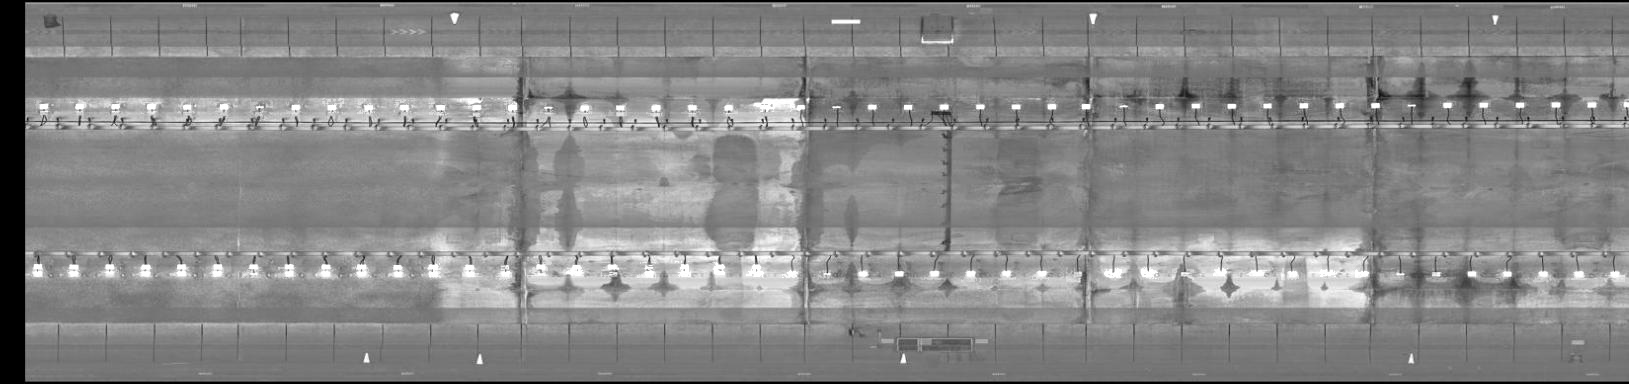light: (316, 260, 338, 281), (278, 262, 301, 280), (525, 262, 553, 276), (238, 260, 261, 278), (353, 260, 372, 279), (1066, 267, 1088, 282), (322, 98, 344, 113), (459, 263, 482, 277), (608, 100, 627, 116), (1604, 267, 1625, 282), (206, 262, 226, 277), (1425, 268, 1447, 282), (753, 100, 775, 114), (170, 262, 192, 276), (637, 262, 656, 278), (388, 264, 406, 280), (1222, 99, 1241, 114), (566, 263, 588, 276), (1533, 266, 1551, 282), (423, 263, 440, 279), (600, 262, 619, 277), (495, 265, 513, 280), (961, 268, 981, 282), (504, 100, 524, 114), (250, 100, 273, 112), (1496, 267, 1517, 280), (1138, 267, 1158, 280), (63, 264, 84, 277), (468, 101, 484, 117), (1281, 266, 1300, 280), (1172, 268, 1194, 280), (745, 264, 764, 278), (136, 263, 155, 277), (1329, 99, 1348, 112), (429, 102, 449, 115), (97, 262, 119, 273), (1460, 270, 1480, 282), (1101, 268, 1122, 280), (675, 260, 691, 277), (680, 102, 701, 114), (141, 102, 162, 114), (1473, 98, 1491, 112), (575, 100, 592, 114), (286, 100, 303, 114), (28, 263, 46, 277), (1403, 99, 1421, 112), (997, 267, 1016, 280), (719, 101, 738, 114), (104, 101, 126, 112), (852, 268, 872, 280), (394, 100, 413, 112), (357, 102, 377, 114), (34, 100, 54, 112), (1294, 98, 1310, 113), (1366, 98, 1383, 112), (1390, 266, 1407, 280), (1032, 267, 1049, 280), (924, 269, 944, 280), (1077, 100, 1096, 112), (897, 100, 915, 112), (1147, 101, 1167, 112), (177, 102, 196, 113), (1571, 267, 1587, 280), (712, 262, 728, 275), (646, 103, 663, 116), (1186, 101, 1205, 112), (1547, 99, 1563, 112), (1583, 99, 1600, 111), (1439, 99, 1456, 111), (215, 100, 232, 112), (70, 100, 86, 112), (1007, 101, 1024, 112), (971, 100, 989, 111), (1513, 99, 1528, 111), (1044, 100, 1060, 112), (1247, 267, 1267, 276), (891, 269, 907, 281), (540, 102, 556, 114), (1355, 268, 1372, 278), (1259, 101, 1275, 112), (1213, 265, 1229, 276), (1320, 267, 1337, 277), (864, 103, 882, 112), (790, 103, 807, 112), (818, 270, 834, 279), (782, 269, 799, 278), (936, 102, 953, 111), (1116, 102, 1131, 111), (829, 103, 844, 112), (1618, 99, 1629, 110)
